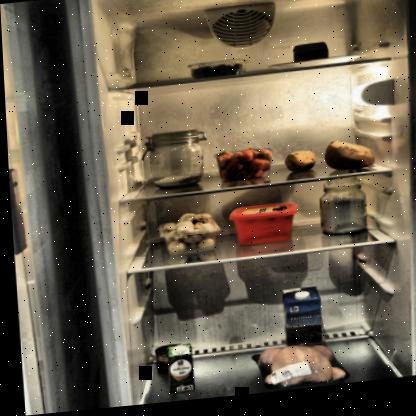blueberries: (185, 62, 249, 84)
butter: (225, 205, 298, 252)
cheese: (289, 45, 330, 71)
chicken: (244, 343, 346, 398)
corn: (151, 345, 184, 379)
heavy_cream: (162, 346, 190, 396)
milk: (277, 289, 322, 354)
mushrooms: (152, 212, 218, 257)
strawberries: (210, 148, 272, 189)
sweet_potato: (320, 143, 373, 179), (281, 153, 315, 181)
